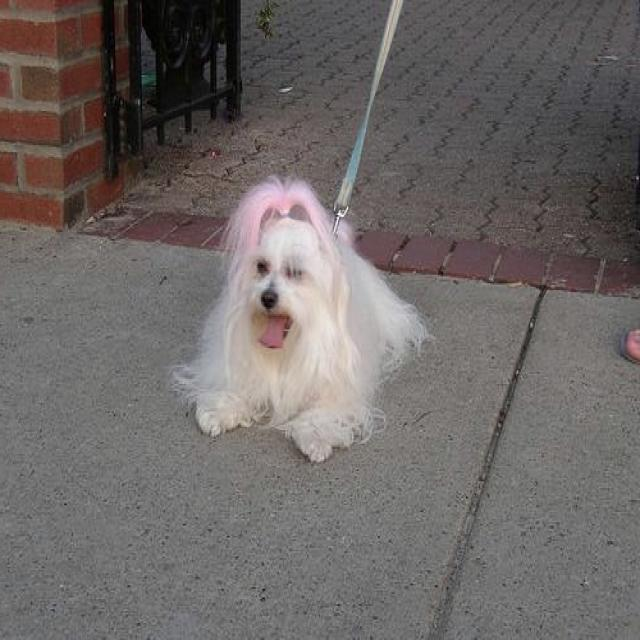maltese_dog: (170, 175, 435, 462)
